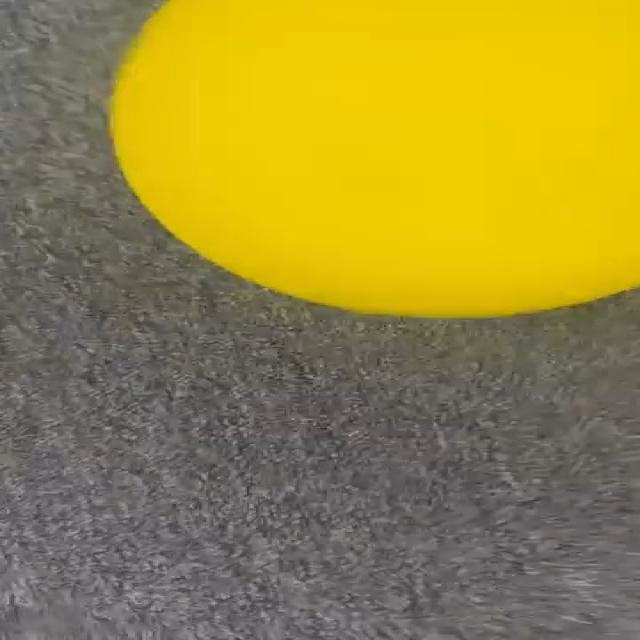Fuels: (112, 0, 635, 316)
